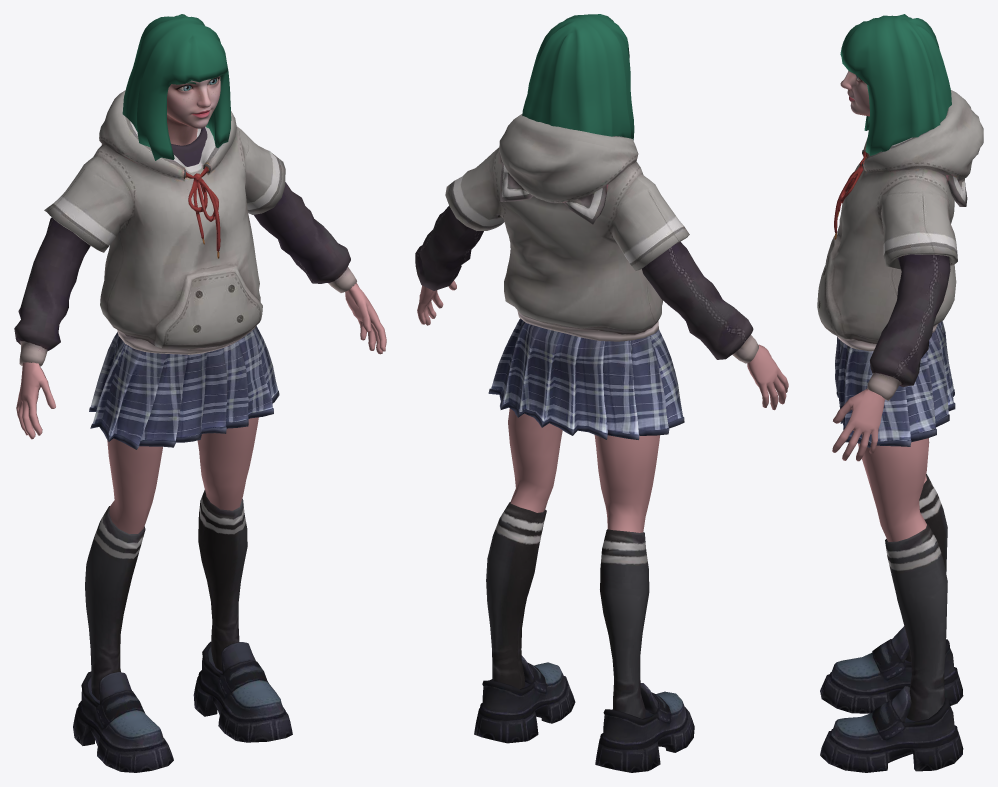
Rendered from neng.glb.
3 renders of one model, left to right at view 1: azimuth 30°, elevation 25°; view 2: azimuth 150°, elevation 25°; view 3: azimuth 270°, elevation 25°, orthographic.
Visible parts, largest first — view 1: Wolf3D_Outfit_Top, Wolf3D_Outfit_Bottom, Wolf3D_Outfit_Footwear, Wolf3D_Body, Wolf3D_Hair, Wolf3D_Head; view 2: Wolf3D_Outfit_Top, Wolf3D_Outfit_Bottom, Wolf3D_Body, Wolf3D_Outfit_Footwear, Wolf3D_Hair; view 3: Wolf3D_Outfit_Top, Wolf3D_Outfit_Bottom, Wolf3D_Outfit_Footwear, Wolf3D_Hair, Wolf3D_Body, Wolf3D_Head.
Part boxes in pixels (x1=…): Wolf3D_Outfit_Top: x1=14, y1=90, x2=356, y2=366; Wolf3D_Outfit_Bottom: x1=85, y1=326, x2=279, y2=699; Wolf3D_Outfit_Footwear: x1=73, y1=641, x2=292, y2=772; Wolf3D_Body: x1=16, y1=283, x2=386, y2=533; Wolf3D_Hair: x1=122, y1=14, x2=231, y2=160; Wolf3D_Head: x1=167, y1=76, x2=220, y2=145; Wolf3D_Outfit_Top: x1=415, y1=114, x2=758, y2=363; Wolf3D_Outfit_Bottom: x1=486, y1=318, x2=684, y2=718; Wolf3D_Body: x1=417, y1=280, x2=788, y2=532; Wolf3D_Outfit_Footwear: x1=474, y1=655, x2=694, y2=772; Wolf3D_Hair: x1=522, y1=14, x2=634, y2=140; Wolf3D_Outfit_Top: x1=817, y1=90, x2=983, y2=400; Wolf3D_Outfit_Bottom: x1=835, y1=321, x2=955, y2=721; Wolf3D_Outfit_Footwear: x1=820, y1=626, x2=963, y2=772; Wolf3D_Hair: x1=840, y1=14, x2=951, y2=155; Wolf3D_Body: x1=832, y1=389, x2=929, y2=541; Wolf3D_Head: x1=840, y1=71, x2=869, y2=116.
Size of the model in its own units: 0.9279 by 1.76 by 0.374.
Materials: 8 (8 with a texture image).
